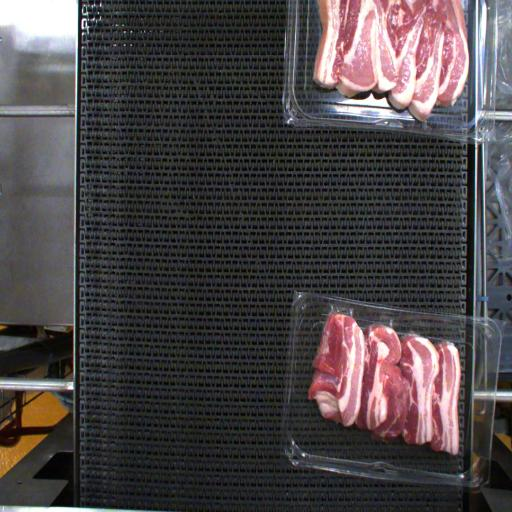packaging-error: (322, 300, 360, 323), (374, 314, 396, 331)
